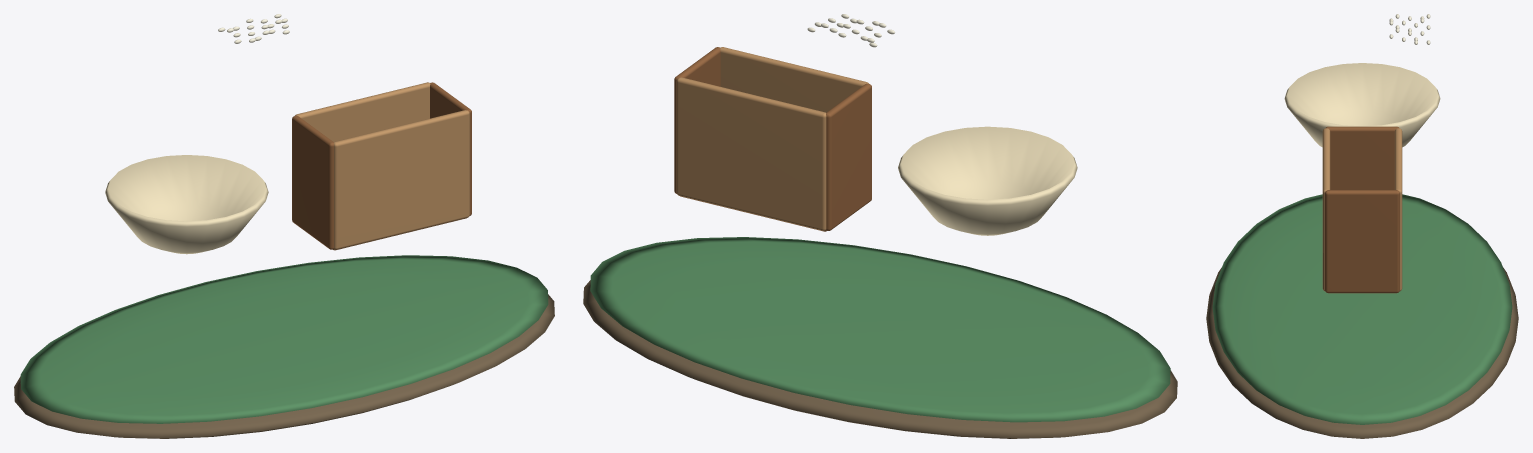
Rendered from complete-third-food-products.glb.
The picture shows the model from 3 angles, left to right: view 1: azimuth 30°, elevation 25°; view 2: azimuth 150°, elevation 25°; view 3: azimuth 270°, elevation 25°; orthographic projection. The views are drawn at different scales.
Parts seen in each view (by area): view 1: complete-third-food-products_surface_01, complete-third-food-products_surface_03, complete-third-food-products_surface_02, complete-third-food-products_surface_00, complete-third-food-products_surface_04, complete-third-food-products_surface_05; view 2: complete-third-food-products_surface_01, complete-third-food-products_surface_03, complete-third-food-products_surface_02, complete-third-food-products_surface_00, complete-third-food-products_surface_04, complete-third-food-products_surface_05; view 3: complete-third-food-products_surface_01, complete-third-food-products_surface_04, complete-third-food-products_surface_02, complete-third-food-products_surface_00, complete-third-food-products_surface_03, complete-third-food-products_surface_05.
Part boxes in pixels (bbox=[...]): complete-third-food-products_surface_01: bbox=[20, 255, 548, 423]; complete-third-food-products_surface_03: bbox=[295, 82, 469, 249]; complete-third-food-products_surface_02: bbox=[105, 155, 268, 254]; complete-third-food-products_surface_00: bbox=[14, 294, 554, 438]; complete-third-food-products_surface_04: bbox=[292, 82, 471, 250]; complete-third-food-products_surface_05: bbox=[218, 14, 289, 43]; complete-third-food-products_surface_01: bbox=[590, 237, 1170, 422]; complete-third-food-products_surface_03: bbox=[676, 47, 868, 230]; complete-third-food-products_surface_02: bbox=[898, 126, 1077, 235]; complete-third-food-products_surface_00: bbox=[583, 280, 1177, 438]; complete-third-food-products_surface_04: bbox=[674, 47, 871, 231]; complete-third-food-products_surface_05: bbox=[807, 14, 894, 47]; complete-third-food-products_surface_01: bbox=[1212, 194, 1512, 424]; complete-third-food-products_surface_04: bbox=[1325, 126, 1399, 293]; complete-third-food-products_surface_02: bbox=[1284, 63, 1440, 147]; complete-third-food-products_surface_00: bbox=[1206, 267, 1518, 438]; complete-third-food-products_surface_03: bbox=[1322, 128, 1402, 291]; complete-third-food-products_surface_05: bbox=[1389, 14, 1430, 44].
Bounding box in the file's own units: 4.56 × 2.71 × 2.5.
